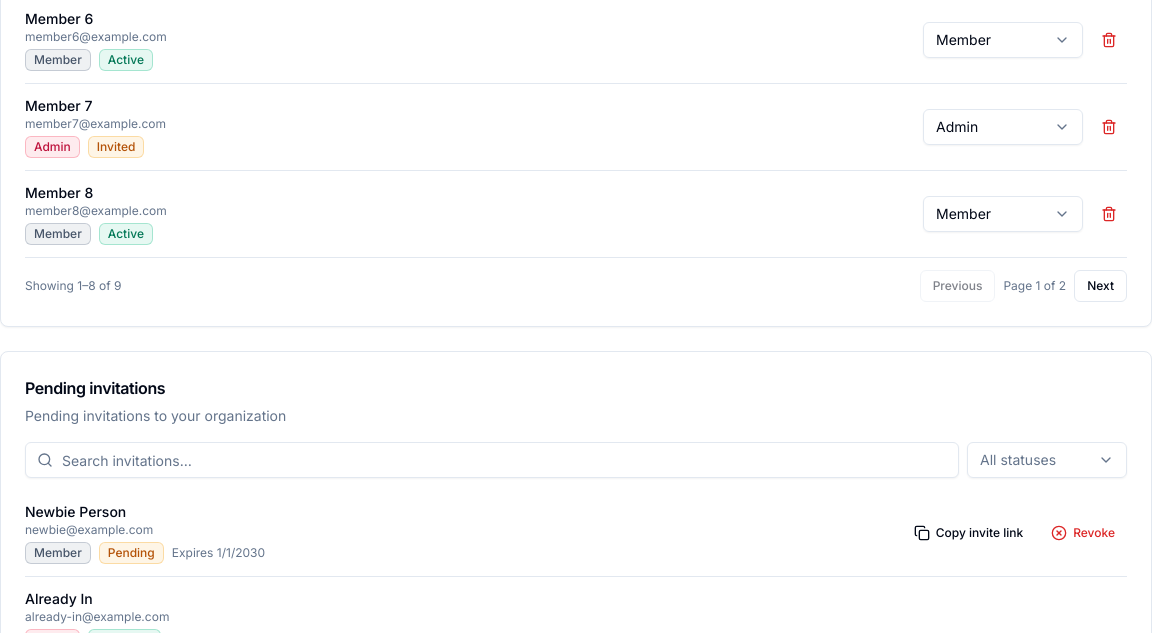
Test: MembersSettingsPage — pagination + filters › paginates the member list (PAGE_SIZE = 8) and pages forward/back
This screenshot has width=1152, height=633.
(page scrolled)
Check: the text "member8@example.com" is shown, box [25,203,167,219]
Check: the text "member9@example.com" is not shown
Click the button "Next".
click(1101, 286)  # box [1074,270,1127,302]
(page scrolled)
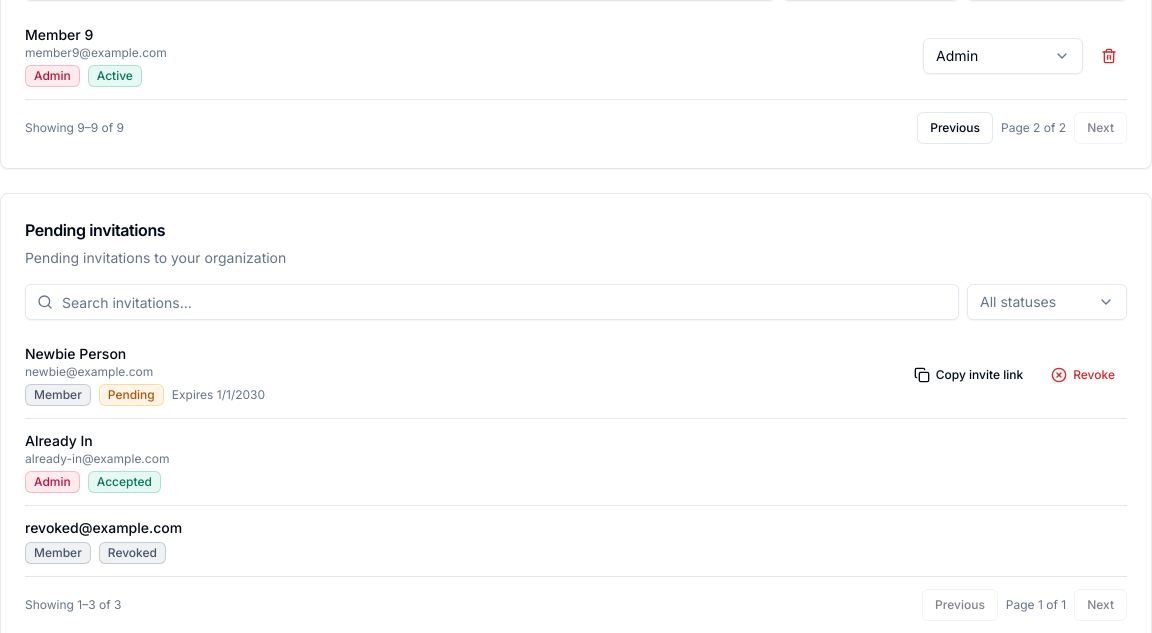
Check: the text "member9@example.com" is shown, box [25,45,167,61]
Check: the text "Showing 9–9 of 9" is shown, box [25,120,124,136]
Click the button "Previous" next to "Page 2 of 2".
click(955, 128)  # box [917,112,993,144]
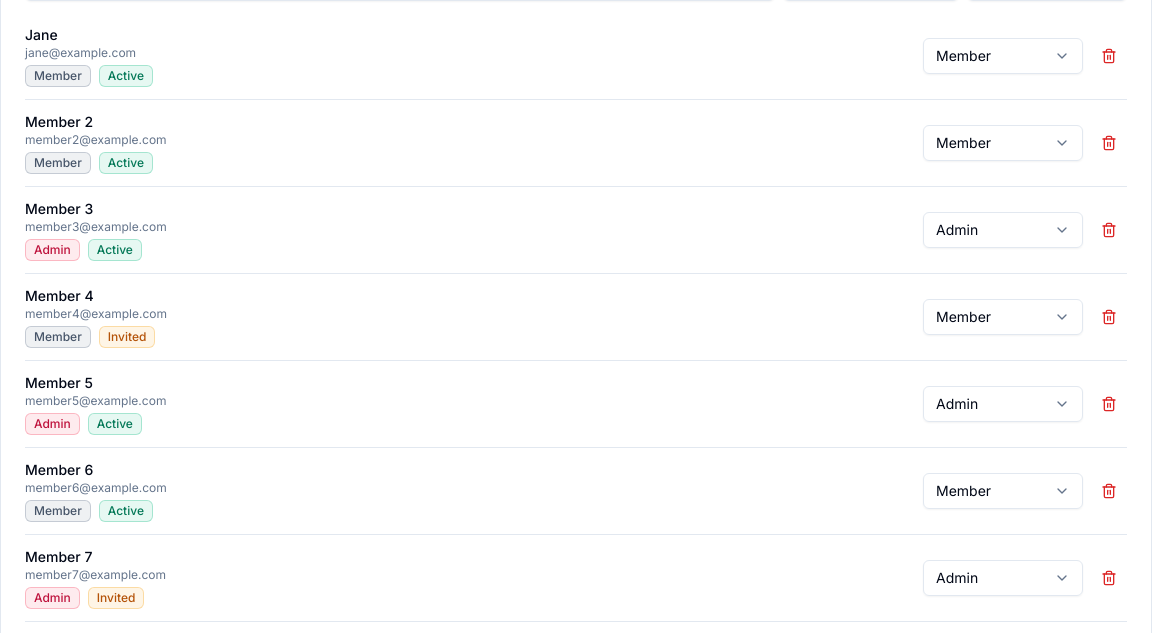
Check: the text "jane@example.com" is shown, box [25,45,153,61]
